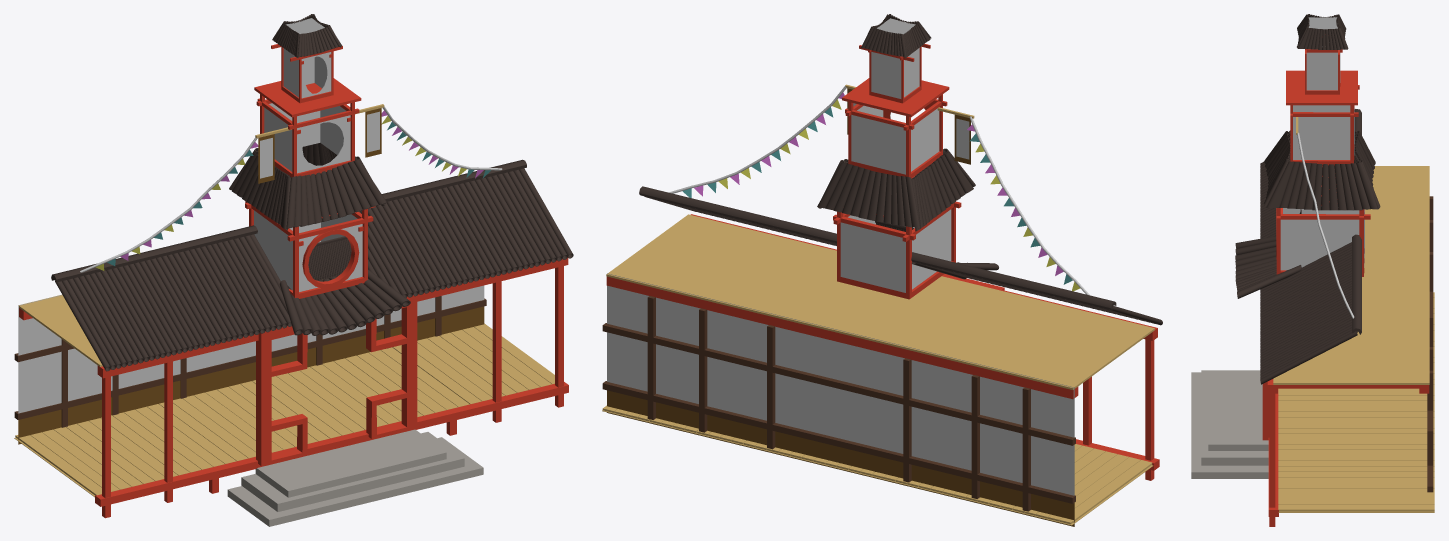
Rendered from Main outdoor piece.fbx.
The picture shows the model from 3 angles, left to right: view 1: azimuth 30°, elevation 25°; view 2: azimuth 150°, elevation 25°; view 3: azimuth 270°, elevation 25°; orthographic projection. The views are drawn at different scales.
Parts seen in each view (by area): view 1: pCube61, polySurface155, pCube109, polySurface77, pPlane3, pCube99, polySurface170, polySurface169, polySurface75, pCube110, polySurface113, polySurface171 (+6 smaller); view 2: pPlane3, pCube76, pCube110, pCube109, polySurface75, polySurface169, polySurface170, pCube61, polySurface155, polySurface77, polySurface171, polySurface172 (+3 smaller); view 3: pCube61, pCube76, polySurface77, pCube99, polySurface170, polySurface169, polySurface75, pCube109, polySurface113, pCube110, polySurface171, polySurface172 (+3 smaller).
Boxes of the visible parts, x1,y1,x2,y2 form: pCube61: (14, 323, 554, 497); polySurface155: (51, 225, 291, 371); pCube109: (19, 257, 568, 518); polySurface77: (359, 159, 573, 297); pPlane3: (18, 285, 484, 444); pCube99: (227, 429, 483, 526); polySurface170: (229, 143, 386, 230); polySurface169: (254, 78, 361, 177); polySurface75: (245, 201, 375, 298); pCube110: (14, 296, 486, 427); polySurface113: (279, 269, 410, 335); polySurface171: (271, 44, 342, 103); pPlane3: (607, 273, 1074, 526); pCube76: (606, 214, 1154, 389); pCube110: (602, 296, 1075, 511); pCube109: (606, 214, 1159, 480); polySurface75: (833, 175, 961, 299); polySurface169: (842, 78, 949, 177); polySurface170: (817, 148, 975, 231); pCube61: (602, 405, 1153, 525); polySurface155: (911, 252, 1162, 325); polySurface77: (639, 186, 836, 245); polySurface171: (859, 44, 930, 103); polySurface172: (861, 14, 931, 58); pCube61: (1278, 292, 1434, 512); pCube76: (1273, 166, 1429, 384); polySurface77: (1260, 234, 1361, 384); pCube99: (1191, 370, 1268, 478); polySurface170: (1264, 130, 1380, 210); polySurface169: (1286, 70, 1359, 165); polySurface75: (1276, 166, 1370, 276); pCube109: (1262, 379, 1429, 526); polySurface113: (1235, 236, 1301, 298); pCube110: (1427, 196, 1433, 492); polySurface171: (1305, 46, 1342, 94); polySurface172: (1297, 14, 1348, 49).
Size of the model in its own units: 83.11 by 72.05 by 38.94.
